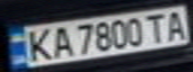0: (124, 15, 148, 47), (109, 17, 130, 50)
7: (72, 20, 96, 55)
8: (90, 18, 115, 52)
A: (160, 7, 190, 40), (48, 24, 75, 60)
K: (21, 26, 54, 63)
T: (142, 11, 169, 43)
